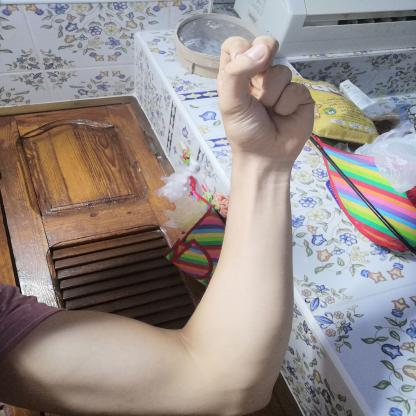QAAF: (201, 26, 329, 172)
